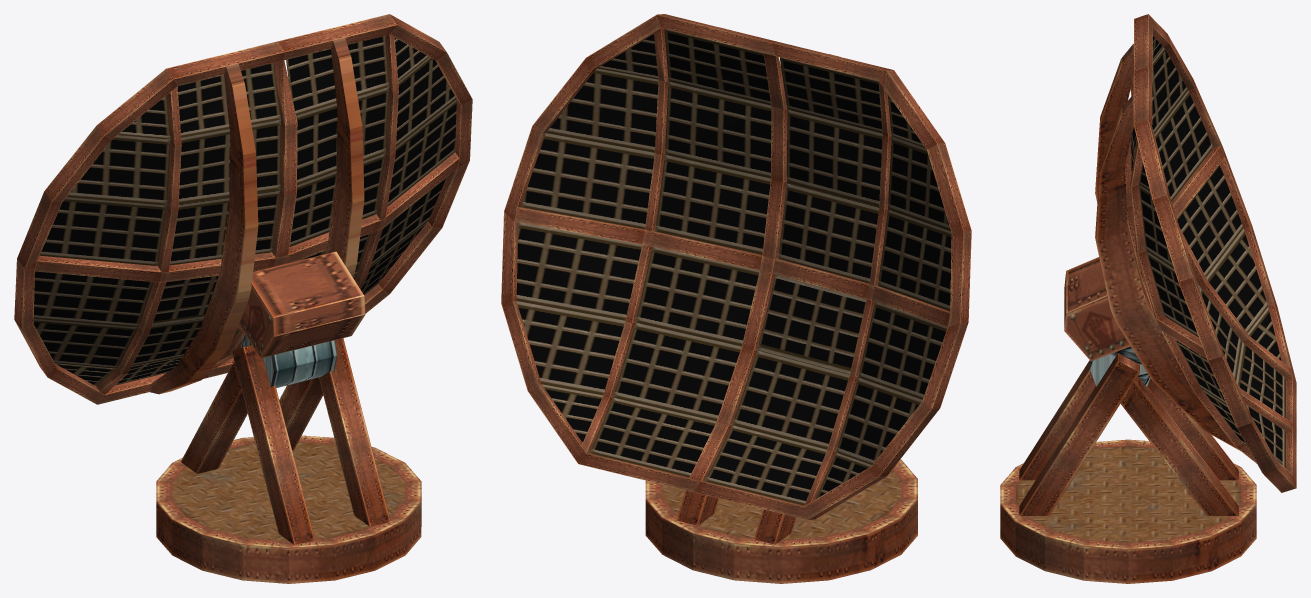
File: C1SMHQH_Dish.obj
3 views of the same model, side by side, from view 1: azimuth 30°, elevation 25°; view 2: azimuth 150°, elevation 25°; view 3: azimuth 270°, elevation 25° (orthographic). The views are drawn at different scales.
Visible parts, largest first — view 1: Node 0; view 2: Node 0; view 3: Node 0.
Boxes of the visible parts, bbox=[...] form: Node 0: bbox=[14, 14, 472, 583]; Node 0: bbox=[501, 14, 971, 583]; Node 0: bbox=[1000, 14, 1296, 583].
Size of the model in its own units: 13.58 by 13.94 by 8.1.
